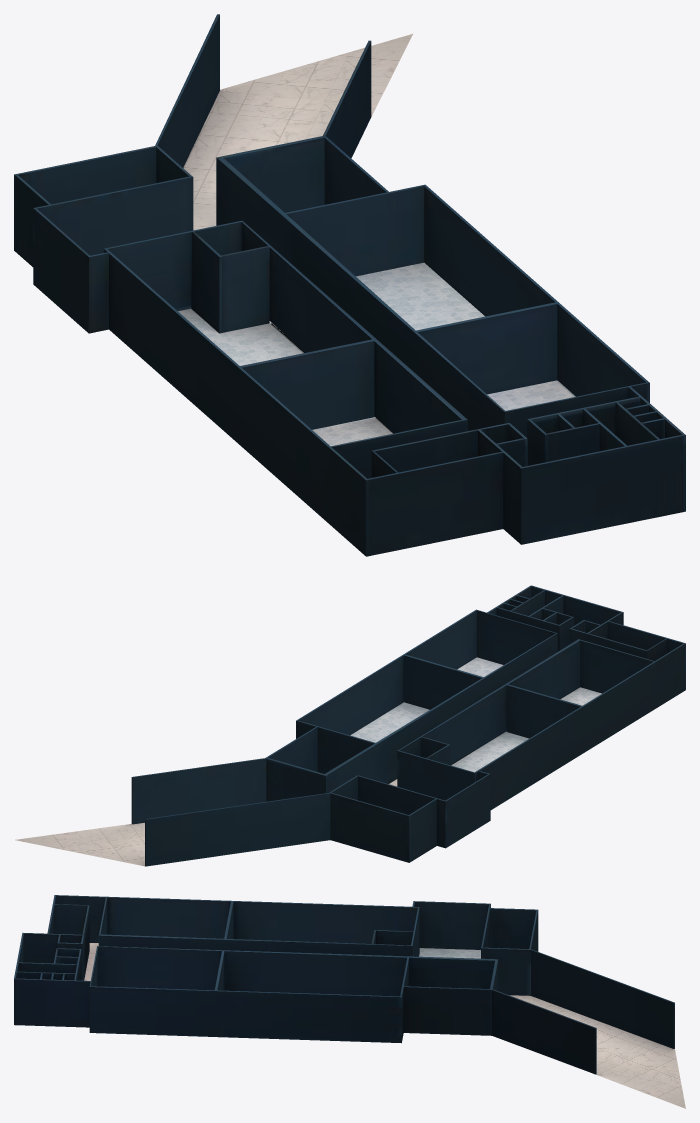
File: Delta-9-Ground-Floor.glb
3 views of the same model, one above another, from view 1: azimuth 30°, elevation 25°; view 2: azimuth 150°, elevation 25°; view 3: azimuth 270°, elevation 25° (orthographic). The views are drawn at different scales.
Visible parts, largest first — view 1: Walls.001, Mesh20.002, Travel Studio, Alif Crae, class1, Bolt & Volt Room; view 2: Walls.001, Mesh20.002, Travel Studio, Alif Crae, class1; view 3: Walls.001, Mesh20.002, Mesh6.
Part boxes in pixels (x1,y1,x2,y2): Walls.001: (14,14,685,556); Mesh20.002: (183,34,412,229); Travel Studio: (356,262,484,330); Alif Crae: (178,308,374,416); class1: (487,380,575,410); Bolt & Volt Room: (312,417,392,446); Walls.001: (131,585,685,866); Mesh20.002: (15,822,145,866); Travel Studio: (350,702,429,742); Alif Crae: (450,731,528,772); class1: (457,657,503,676); Walls.001: (14,895,674,1074); Mesh20.002: (519,996,685,1108); Mesh6: (419,948,480,958).
Bounding box in the file's own units: 6.99 × 0.8924 × 11.82.
1 material, 1 textured.
